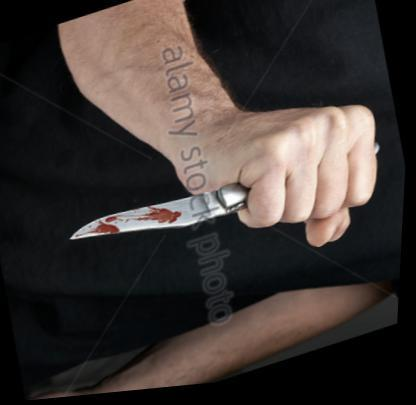knife: (55, 115, 368, 300)
